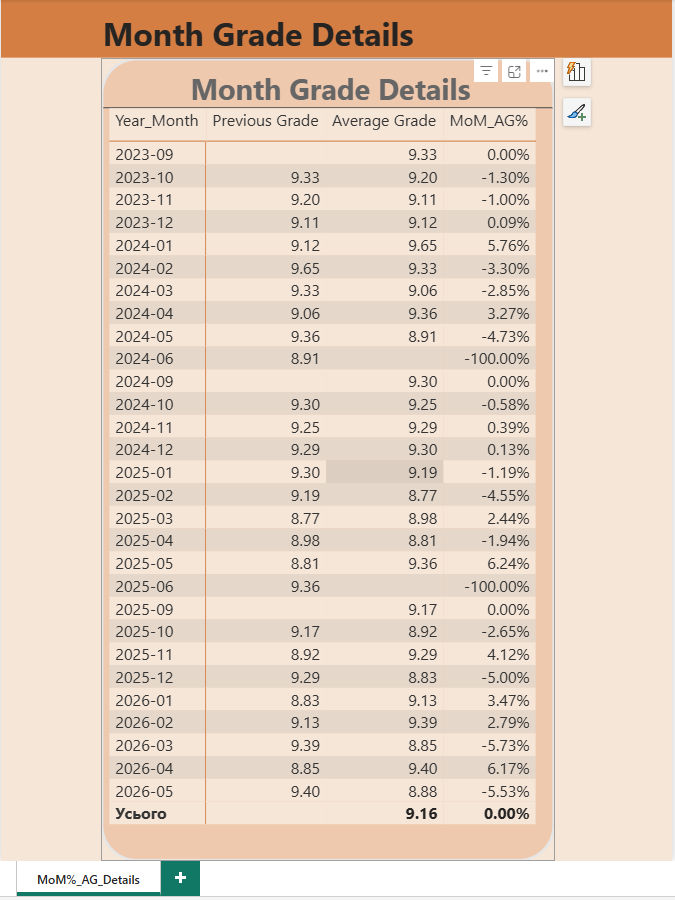

The dashboard page shown, as its layout file describes it:
{"tool":"powerbi","page":{"name":"MoM%_AG_Details","canvas":[560,755],"ordinal":3},"visuals":[{"type":"pivotTable","title":"Month Grade Details","fields":{"Rows":["Calendar.Year_Month"],"Values":["_Measures.Previous Grade","_Measures.Average Grade","_Measures.MoM_AG%"]},"box":[89.4,80,379.4,675],"z":0},{"type":"textbox","box":[0,0,959.7,58],"z":1000}]}

Visuals, with their boxes on the page's 560x755 design canvas (x1, y1, x2, y2). These are canvas units, not pixel positions in the 675x900 screenshot, which may show the page scaled, cropped or inside an application window:
"Month Grade Details" pivotTable: <region>89, 80, 469, 755</region>
textbox: <region>0, 0, 960, 58</region>
